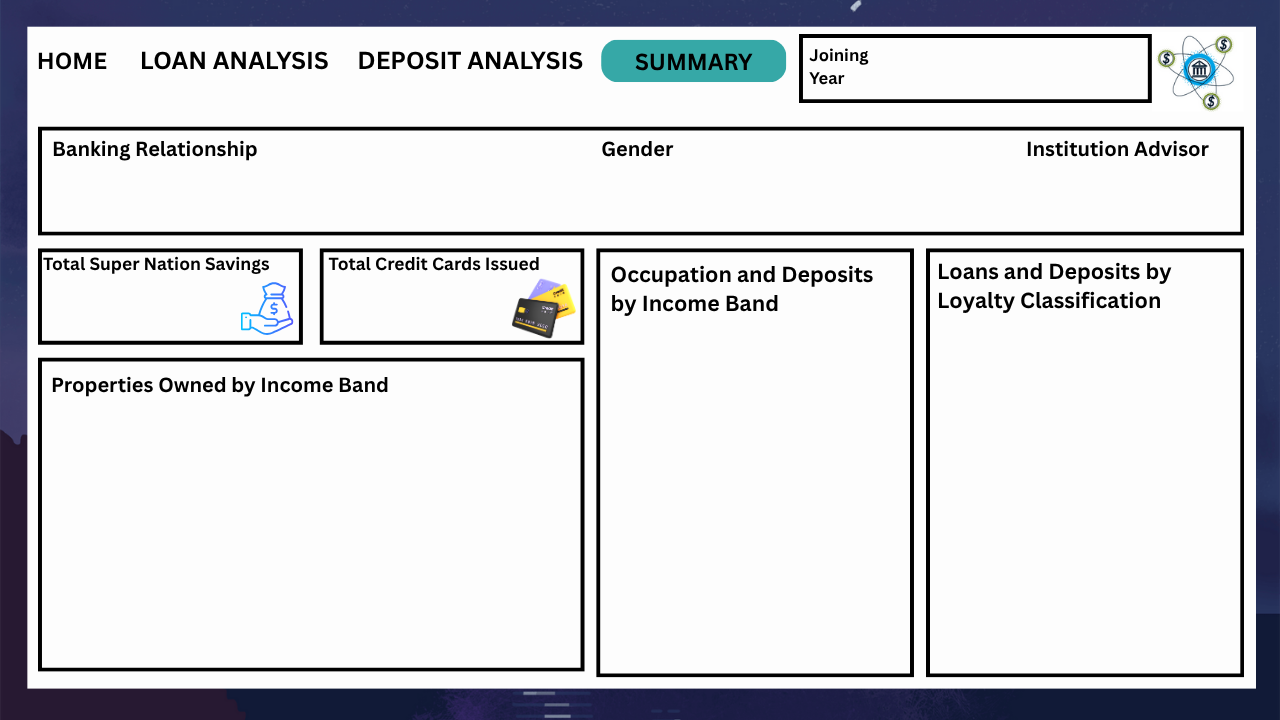

What the dashboard file says about the page in this screenshot:
{"tool":"powerbi","page":{"name":"Summary_Page","canvas":[1280,720],"ordinal":3},"visuals":[{"type":"card","fields":{"Values":["Sum(banking-clients.Saving Accounts)"]},"box":[48.1,280.5,181.5,53.6],"z":0},{"type":"card","fields":{"Values":["Sum(banking-clients.Amount of Credit Cards)"]},"box":[327.2,280.5,181.5,53.6],"z":1000},{"type":"pieChart","fields":{"Category":["banking-clients.Properties Owned"],"Y":["CountNonNull(banking-clients.Income Band)"]},"box":[47.6,405,523.2,247.9],"z":2000},{"type":"lineChart","fields":{"Category":["banking-clients.Income Band"],"Y":["CountNonNull(banking-clients.Occupation)"],"Y2":["banking-clients.Total Deposits"]},"box":[609.7,320,291.2,345.9],"z":3000},{"type":"lineClusteredColumnComboChart","fields":{"Category":["banking-clients.Loyalty Classification"],"Y":["banking-clients.Total Deposits"],"Y2":["banking-clients.Total Loans"]},"box":[936.9,320,299.8,345.9],"z":4000},{"type":"slicer","fields":{"Values":["banking-clients.BRId"]},"box":[45.4,166.4,455.1,61.9],"z":5000},{"type":"slicer","fields":{"Values":["banking-clients.GenderId"]},"box":[507.3,171.9,354.7,52.2],"z":6000},{"type":"slicer","fields":{"Values":["banking-clients.IAId"]},"box":[884,171.9,328.6,49.5],"z":7000},{"type":"slicer","fields":{"Values":["banking-clients.Year"]},"box":[871.7,41.2,266.7,50.9],"z":8000},{"type":"actionButton","box":[28.8,41.8,87.9,40.4],"z":8001},{"type":"actionButton","box":[138.4,41.8,198.9,40.4],"z":8002},{"type":"actionButton","box":[353.2,41.8,233.5,40.4],"z":8003}]}

Visuals, with their boxes in screenshot pixels (x1, y1, x2, y2), scaled from the page's 1280x720 canvas onto the 1280x720 screenshot:
card - Sum(banking-clients.Saving Accounts): box(48, 280, 230, 334)
card - Sum(banking-clients.Amount of Credit Cards): box(327, 280, 509, 334)
pieChart - banking-clients.Properties Owned x CountNonNull(banking-clients.Income Band): box(48, 405, 571, 653)
lineChart - banking-clients.Income Band x CountNonNull(banking-clients.Occupation): box(610, 320, 901, 666)
lineClusteredColumnComboChart - banking-clients.Loyalty Classification x banking-clients.Total Deposits: box(937, 320, 1237, 666)
slicer - banking-clients.BRId: box(45, 166, 500, 228)
slicer - banking-clients.GenderId: box(507, 172, 862, 224)
slicer - banking-clients.IAId: box(884, 172, 1213, 221)
slicer - banking-clients.Year: box(872, 41, 1138, 92)
actionButton: box(29, 42, 117, 82)
actionButton: box(138, 42, 337, 82)
actionButton: box(353, 42, 587, 82)
